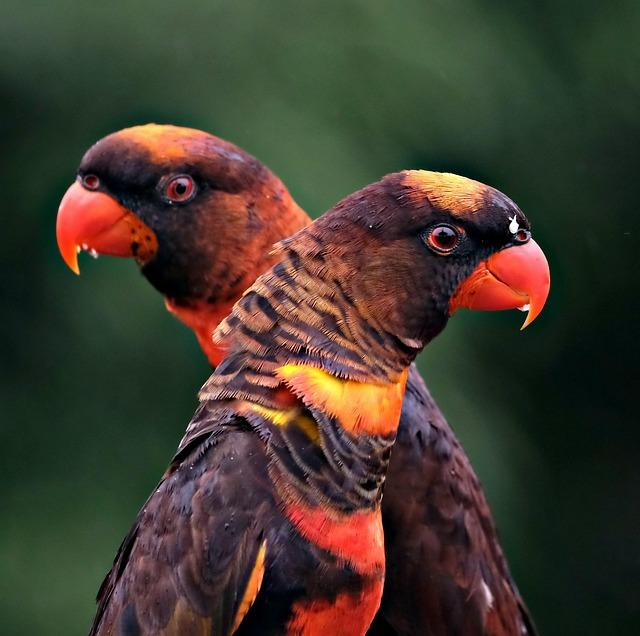Non_Gorille: (33, 79, 566, 633)
